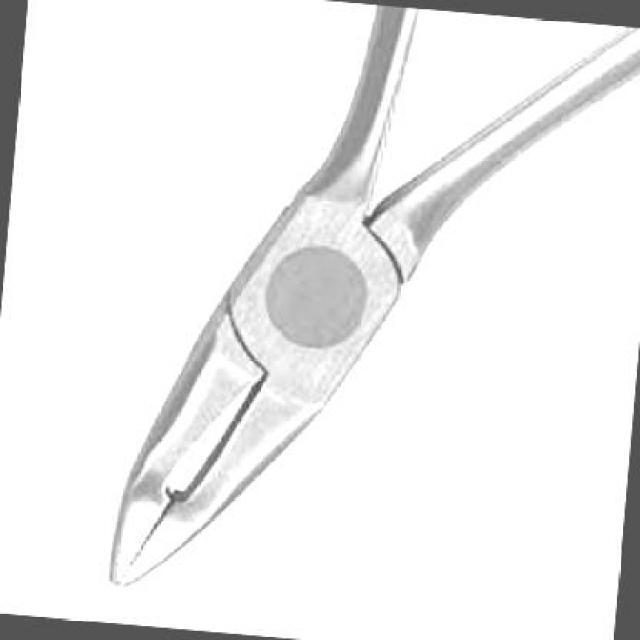pliers: (90, 0, 638, 638)
